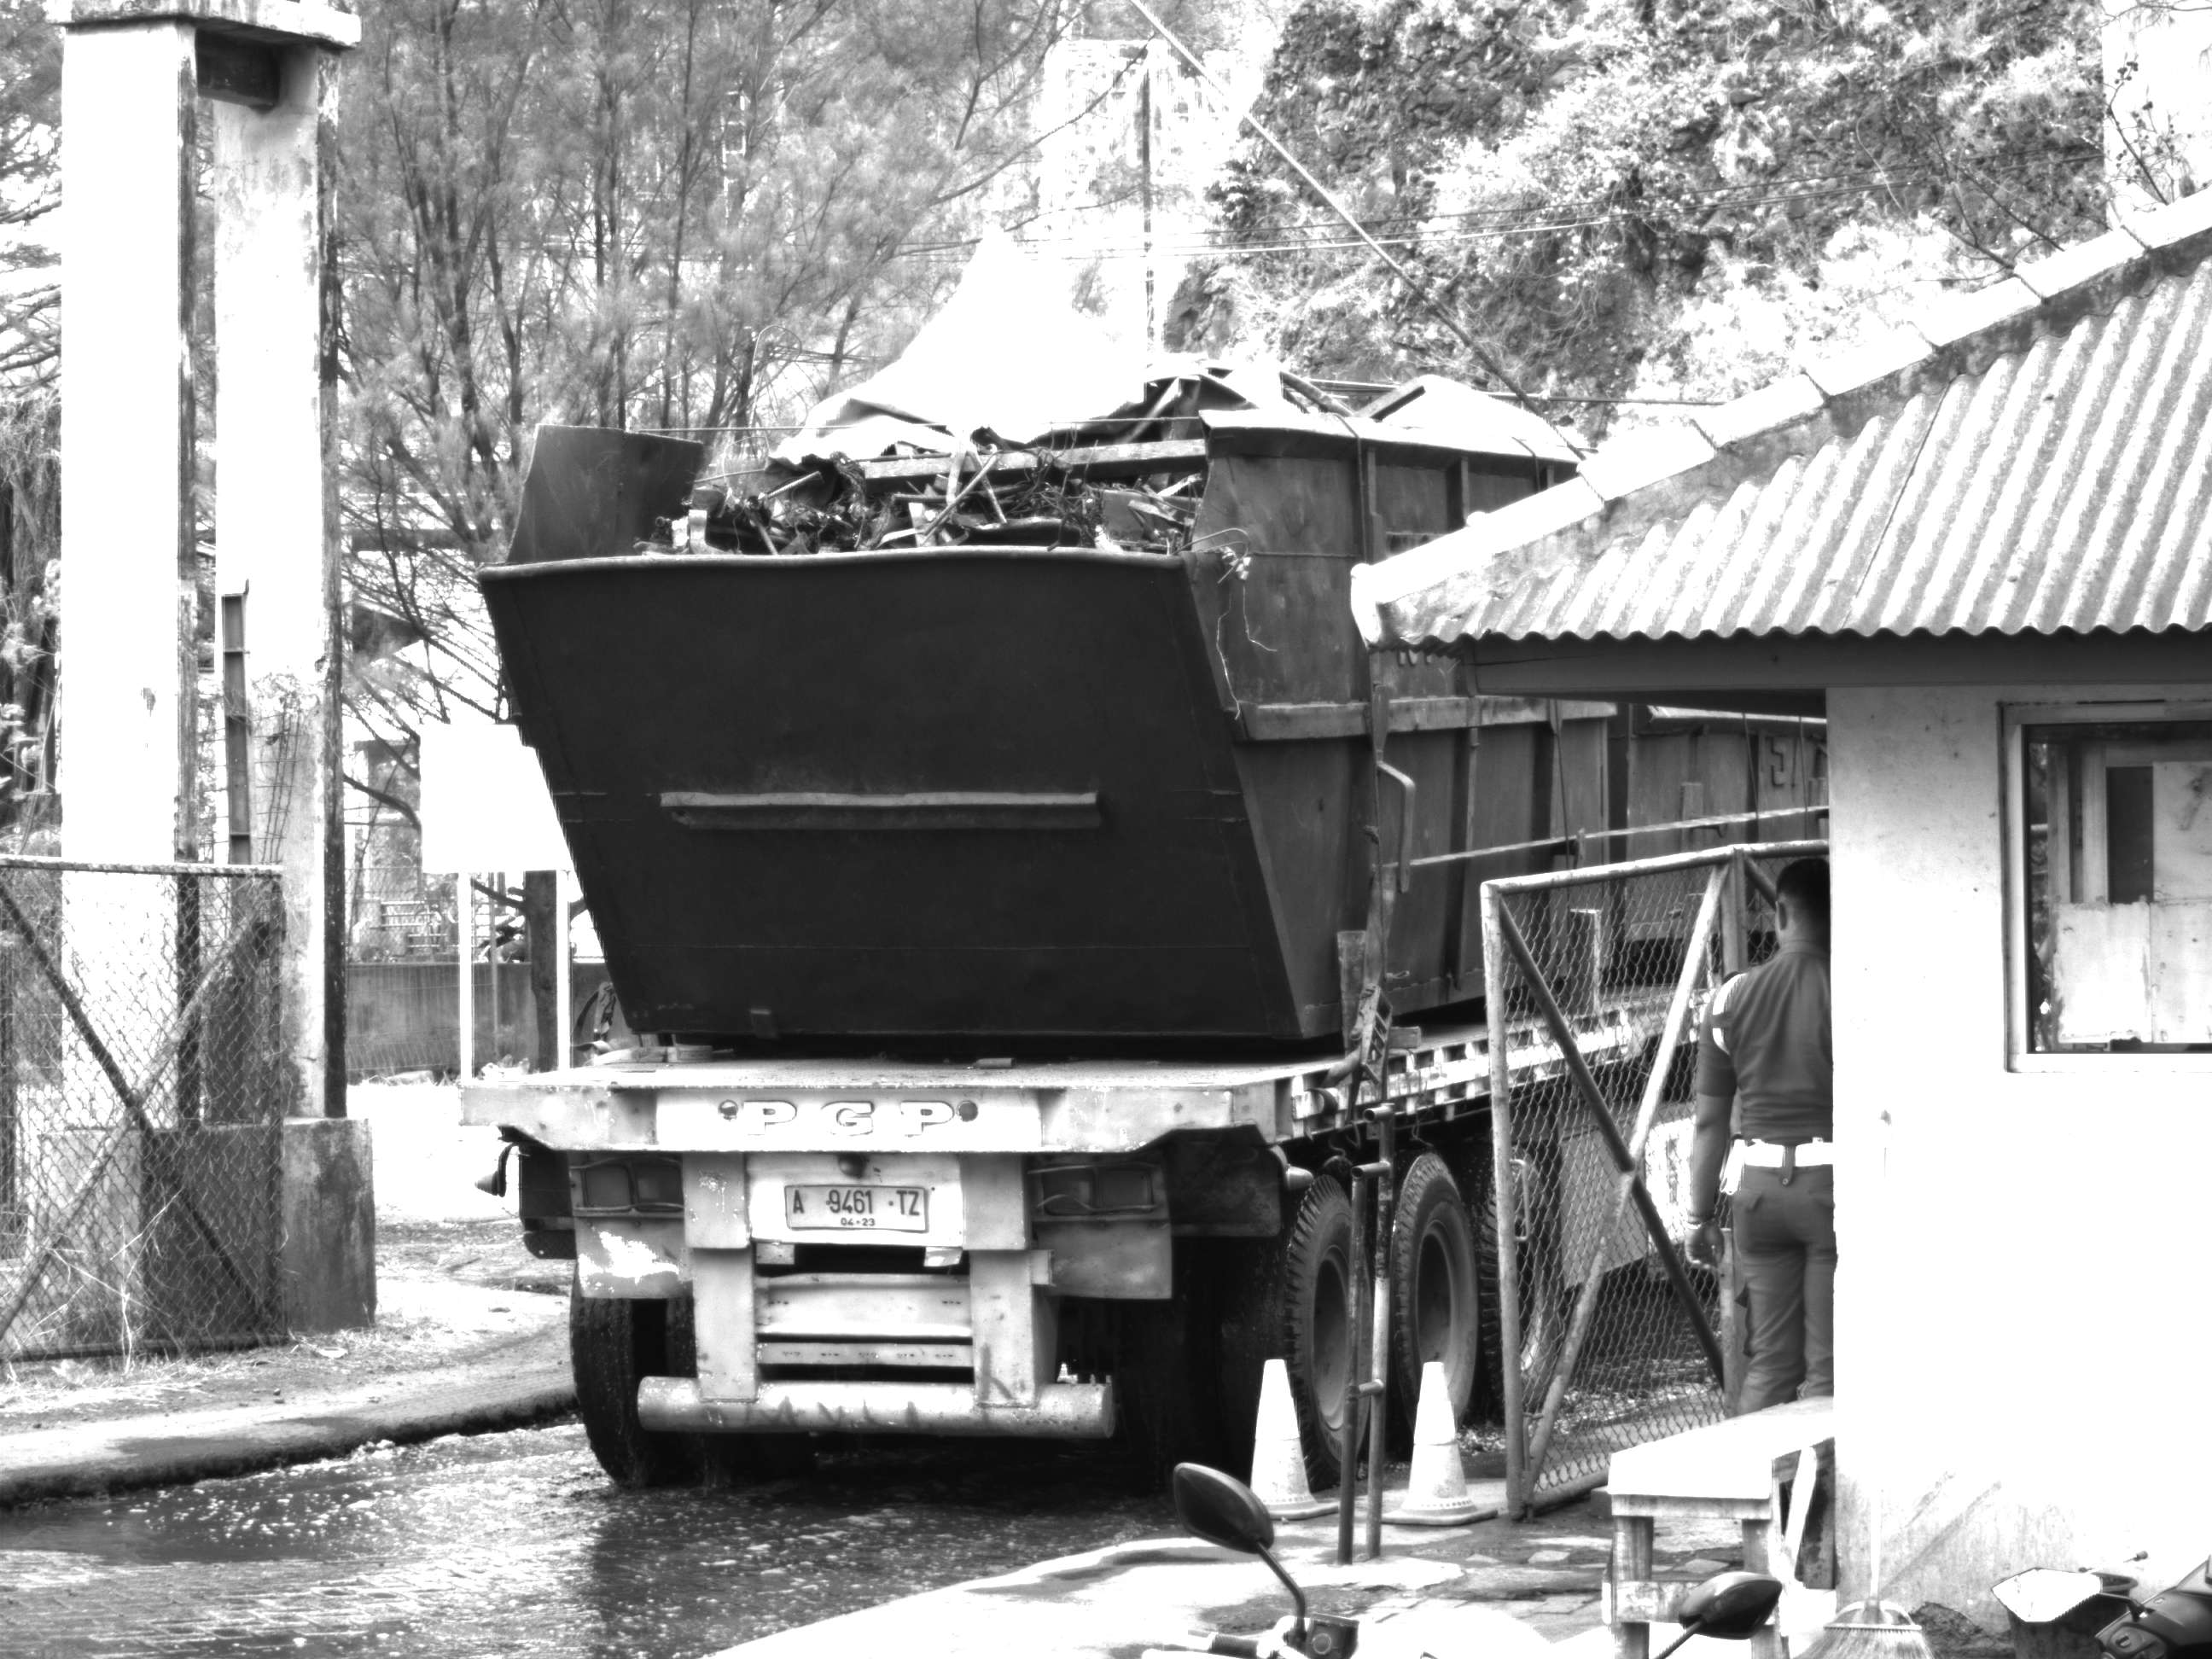day_truck_rear: (451, 1051, 1395, 1499)
plate: (783, 1182, 937, 1227)
